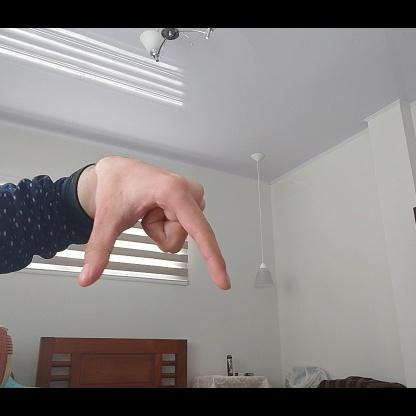Q: (77, 161, 234, 290)
